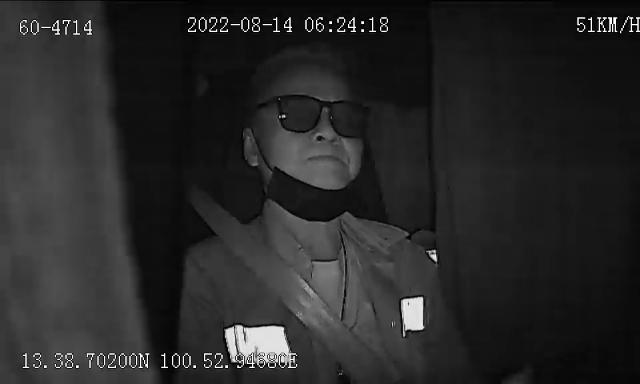Seatbelt: (215, 208, 382, 384)
